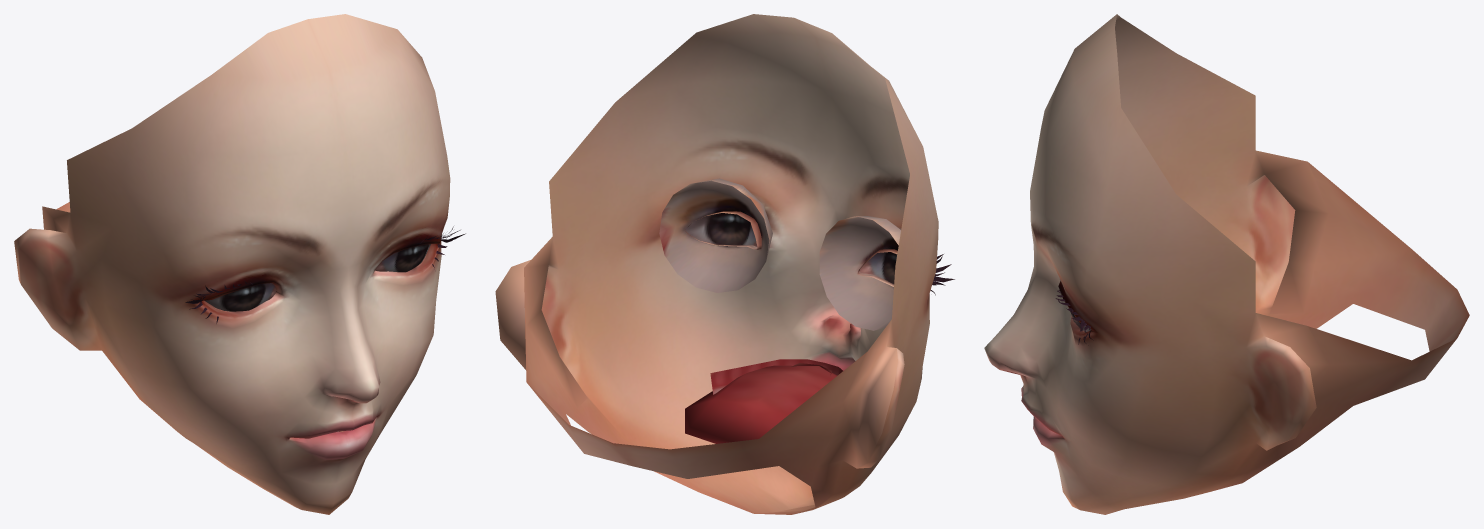
3 views of the same model, side by side, from view 1: azimuth 30°, elevation 25°; view 2: azimuth 150°, elevation 25°; view 3: azimuth 270°, elevation 25° (orthographic).
Parts seen in each view (by area): view 1: ts_nchr003_face; view 2: ts_nchr003_face; view 3: ts_nchr003_face.
Part boxes in pixels (box(x1,y1,x2,y2)): ts_nchr003_face: box(14, 14, 465, 514); ts_nchr003_face: box(495, 14, 954, 514); ts_nchr003_face: box(984, 14, 1469, 514).
Bounding box in the file's own units: 0.1882 × 0.2217 × 0.2017.
